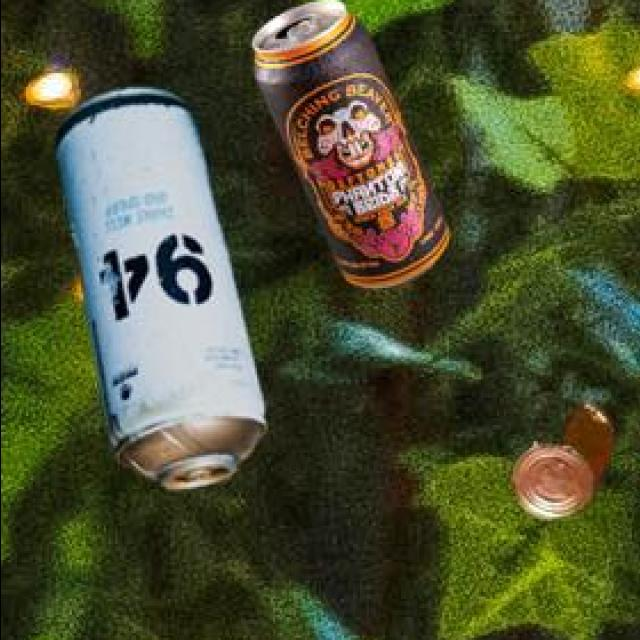logam: (58, 83, 269, 486), (255, 0, 451, 285), (515, 401, 616, 515)
